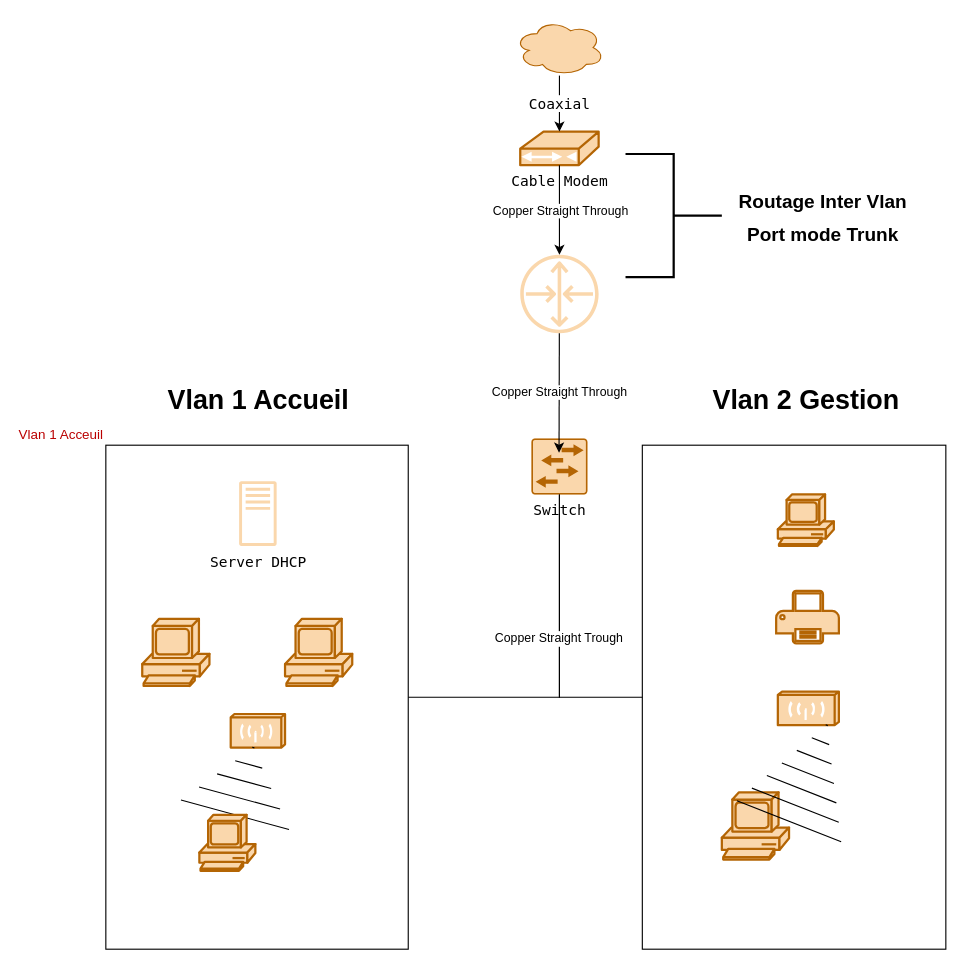
This 965x969 diagram has some shape labels left out. The centre of each missing label's shape, as x and y in pixels:
Cloud: (559,47)
Router: (559,293)
